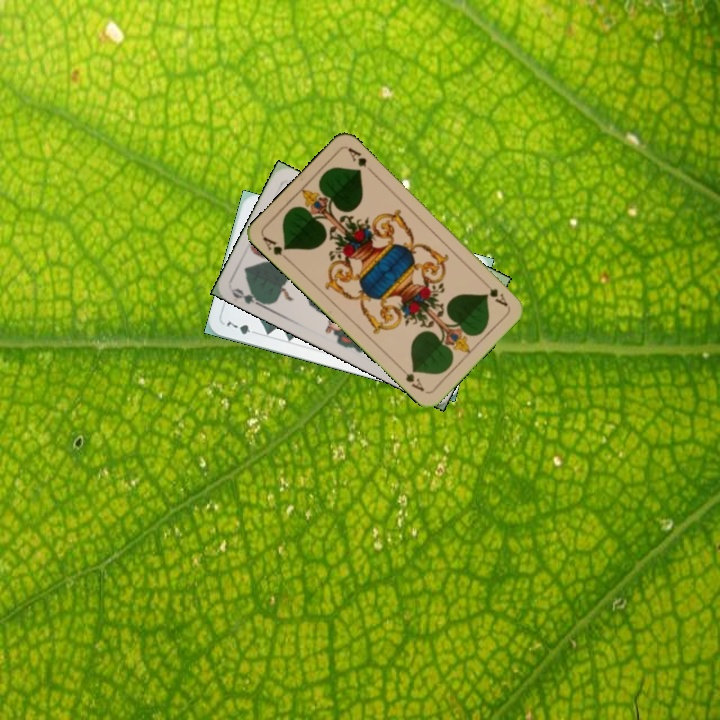G7: (222, 317, 261, 337)
GA: (258, 232, 292, 264), (479, 276, 511, 309)
GO: (228, 284, 268, 310)
